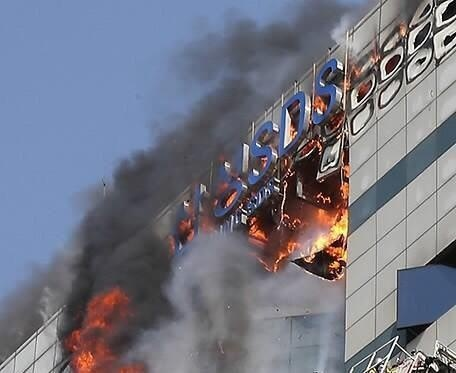fire: (174, 80, 360, 269), (65, 290, 132, 373), (312, 93, 326, 109)
